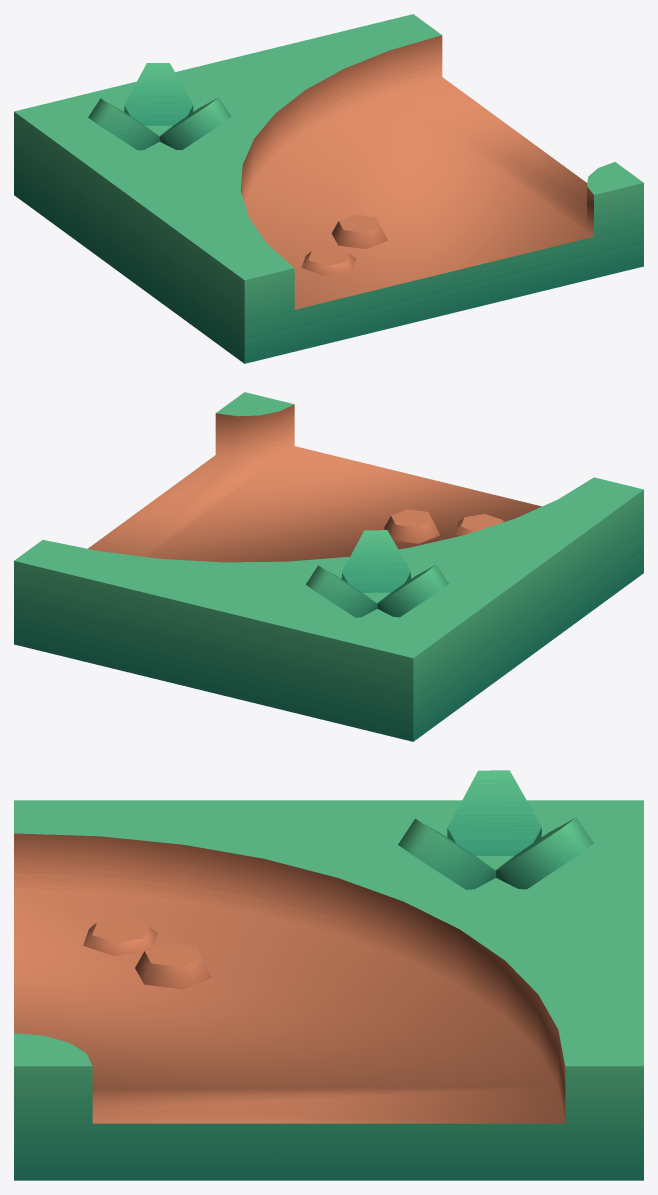
The model's file is tile-corner-round.glb.
The picture shows the model from 3 angles, top to bottom: view 1: azimuth 30°, elevation 25°; view 2: azimuth 150°, elevation 25°; view 3: azimuth 270°, elevation 25°; orthographic projection. The views are drawn at different scales.
Parts seen in each view (by area): view 1: tile-corner-round; view 2: tile-corner-round; view 3: tile-corner-round.
Boxes of the visible parts, <box> form: tile-corner-round: <box>14,14,643,363</box>; tile-corner-round: <box>14,392,643,741</box>; tile-corner-round: <box>14,770,643,1180</box>.
Size of the model in its own units: 1 by 0.2961 by 1.
Materials: 1 (1 with a texture image).
